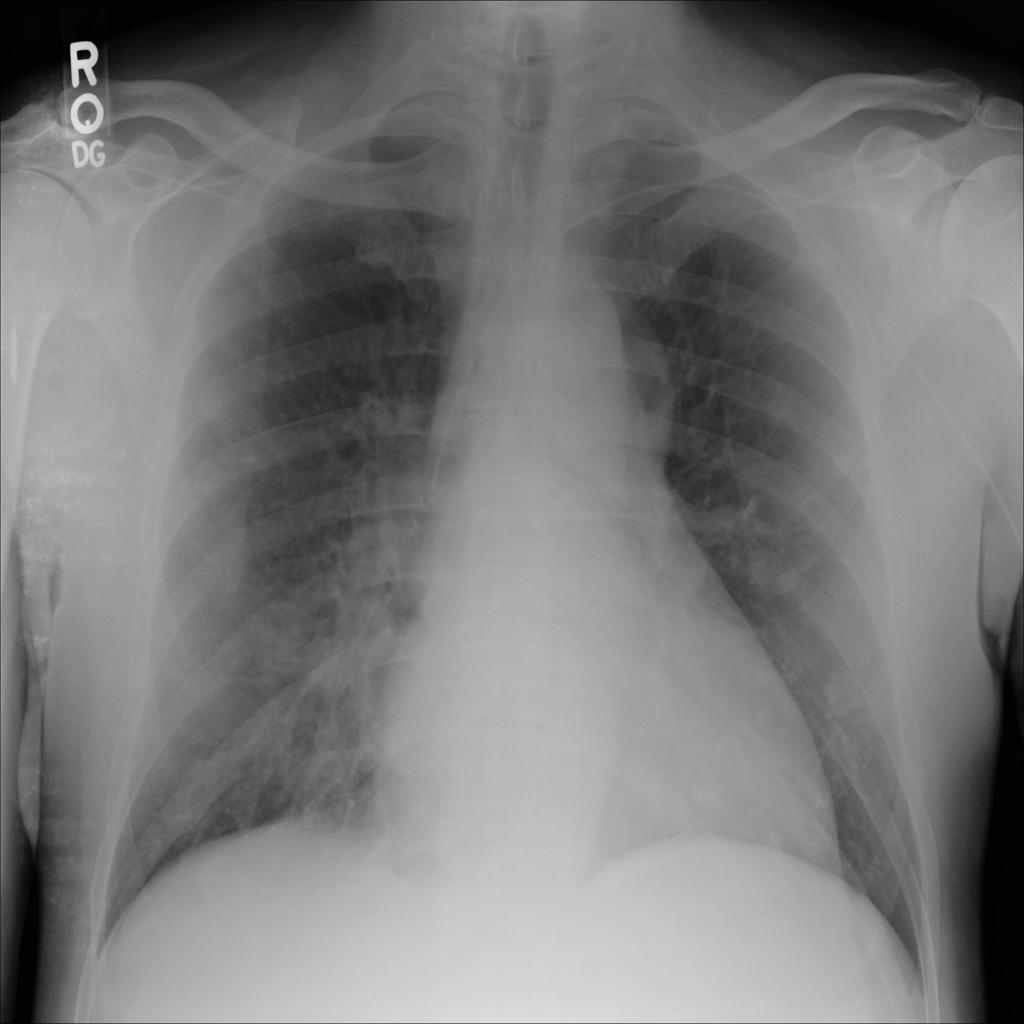nodule: (676, 756, 746, 830), (813, 650, 874, 732), (178, 365, 245, 439)
